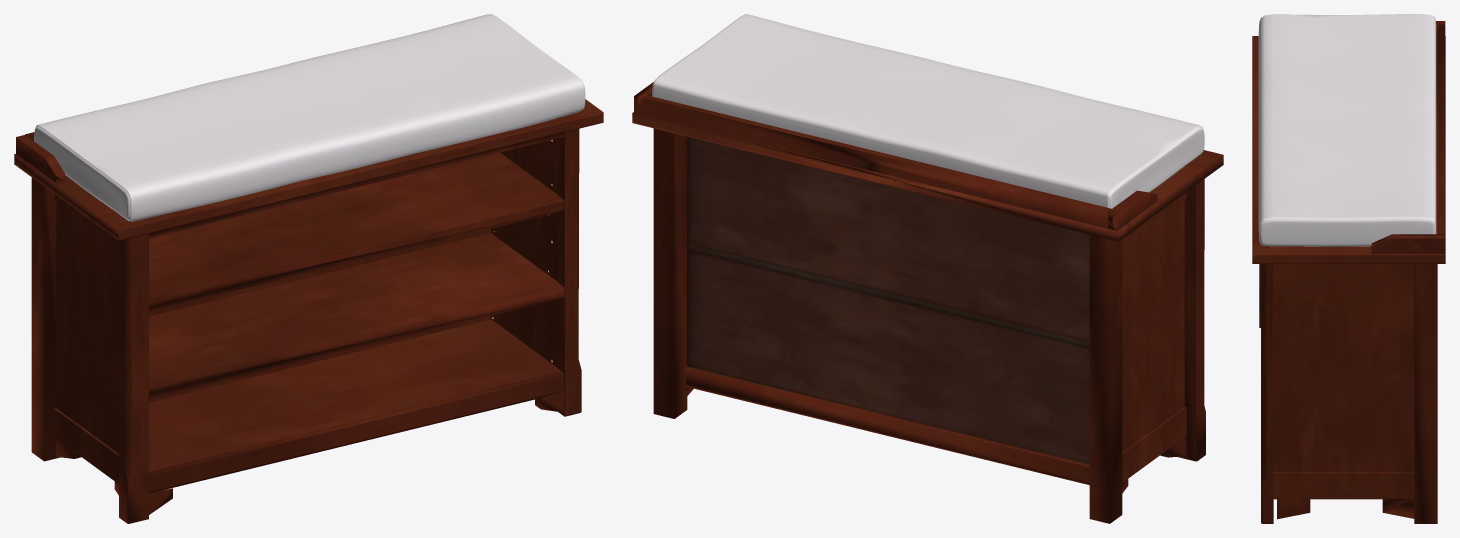
Rendered from bench_abo_B07DBB7FN6.glb.
3 views of the same model, side by side, from view 1: azimuth 30°, elevation 25°; view 2: azimuth 150°, elevation 25°; view 3: azimuth 270°, elevation 25° (orthographic). The views are drawn at different scales.
Visible parts, largest first — view 1: RootNode; view 2: RootNode; view 3: RootNode.
Boxes of the visible parts, x1,y1,x2,y2 form: RootNode: (14,14,603,523); RootNode: (632,14,1223,523); RootNode: (1252,14,1445,523).
Bounding box in the file's own units: 0.9872 × 0.6459 × 0.369.
1 material, 1 textured.
